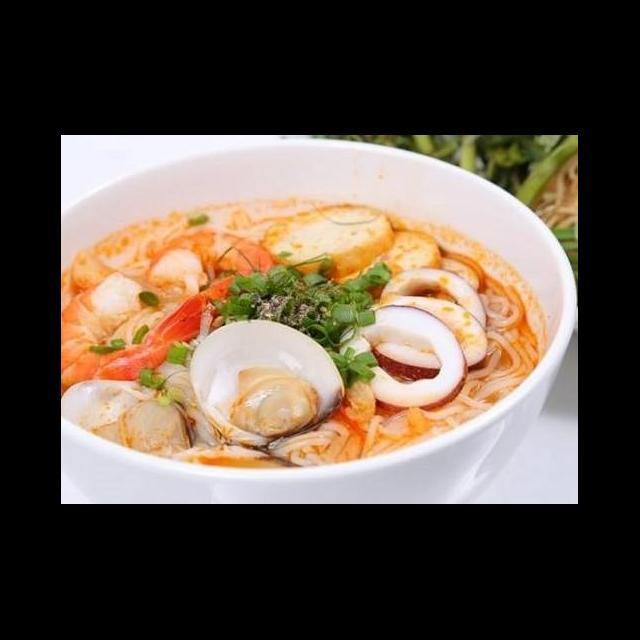bun: (262, 386, 502, 481), (454, 274, 546, 414)
bun hai san: (62, 158, 566, 504)
muc: (332, 302, 472, 416), (360, 293, 492, 382), (377, 264, 492, 342)
tom: (140, 228, 282, 348), (63, 262, 178, 396)
